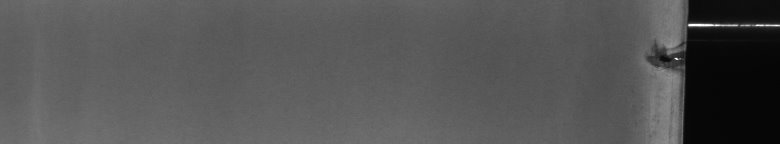hb: (640, 36, 672, 118)
